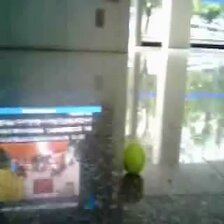tennis: (123, 144, 144, 171)
